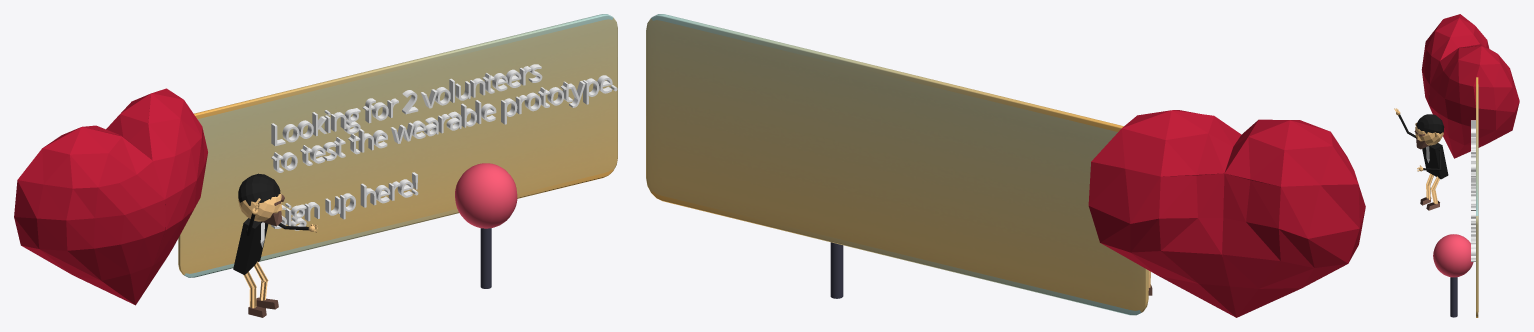
Rendered from Project Name.obj.
3 views of the same model, side by side, from view 1: azimuth 30°, elevation 25°; view 2: azimuth 150°, elevation 25°; view 3: azimuth 270°, elevation 25° (orthographic). The views are drawn at different scales.
Parts seen in each view (by area): view 1: 059_Rectagle_with_bevel, 060_Heart, 065_Pin, 063_Buffer_Layer, 061_Buffer_Layer, 066_Metal_stick, 062_Buffer_Layer; view 2: 059_Rectagle_with_bevel, 060_Heart, 066_Metal_stick; view 3: 060_Heart, 065_Pin, 063_Buffer_Layer, 059_Rectagle_with_bevel, 061_Buffer_Layer, 066_Metal_stick, 062_Buffer_Layer.
Boxes of the visible parts, x1,y1,x2,y2 form: 059_Rectagle_with_bevel: (178,14,617,277); 060_Heart: (14,88,207,305); 065_Pin: (455,163,517,228); 063_Buffer_Layer: (233,173,308,274); 061_Buffer_Layer: (238,192,317,308); 066_Metal_stick: (480,228,491,288); 062_Buffer_Layer: (248,194,284,317); 059_Rectagle_with_bevel: (646,14,1148,315); 060_Heart: (1088,110,1365,317); 066_Metal_stick: (830,242,843,298); 060_Heart: (1421,14,1519,158); 065_Pin: (1433,234,1473,277); 063_Buffer_Layer: (1398,114,1448,179); 059_Rectagle_with_bevel: (1476,77,1478,317); 061_Buffer_Layer: (1394,108,1443,203); 066_Metal_stick: (1450,277,1457,317); 062_Buffer_Layer: (1414,130,1439,210).
Bounding box in the file's own units: 529 × 210 × 142.
9 materials, 1 textured.
